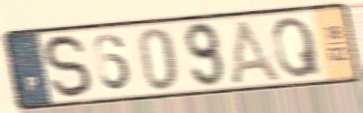0: (136, 25, 182, 93)
6: (92, 32, 133, 93)
9: (181, 19, 229, 91)
A: (226, 16, 286, 84)
Q: (270, 14, 325, 80)
S: (42, 32, 95, 103)
